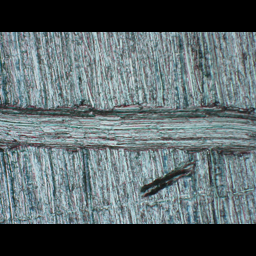d: (0, 96, 255, 199)
